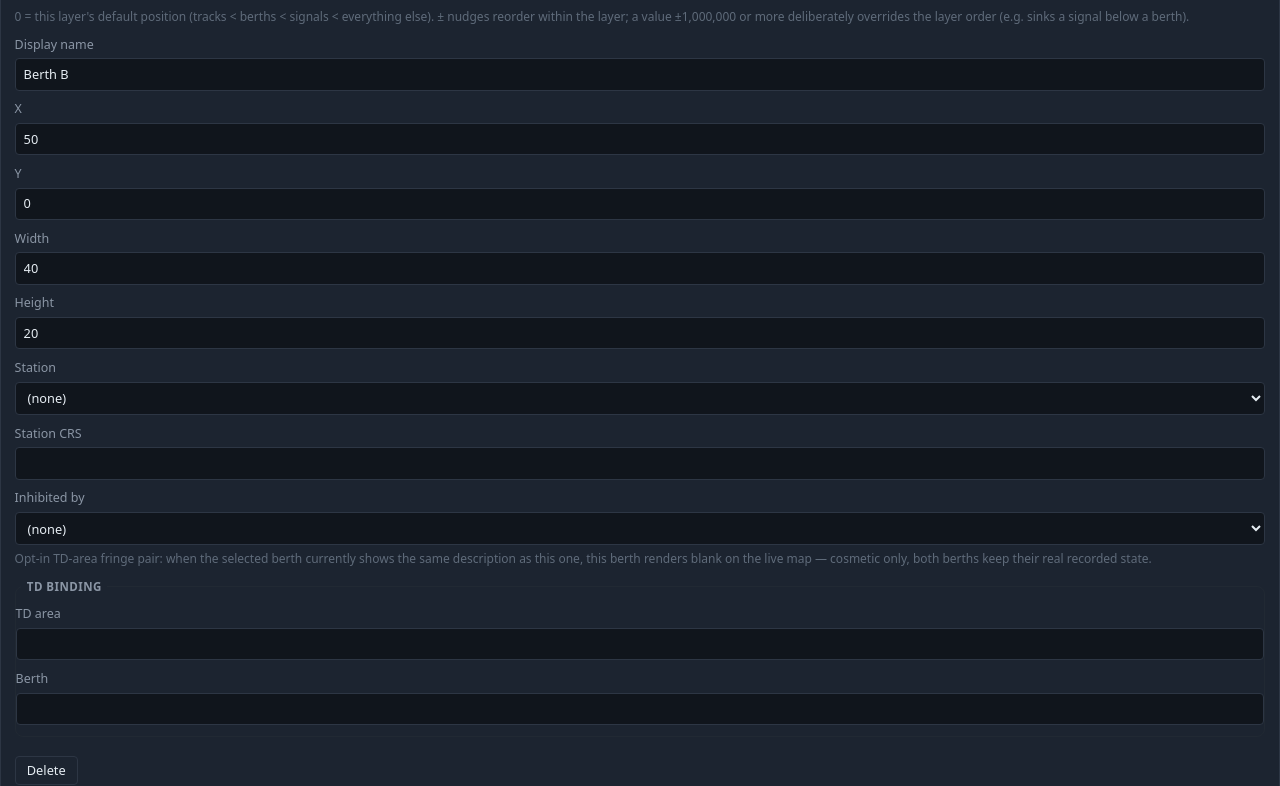
Scenario: PropertyPanel BindingFields › saves a binding on a freshly created, never-bound berth once both fields are filled in
(page scrolled)
Type "PX" into the field labelled "TD area" at point(640, 644), box x1=16 y1=628 x2=1264 y2=660
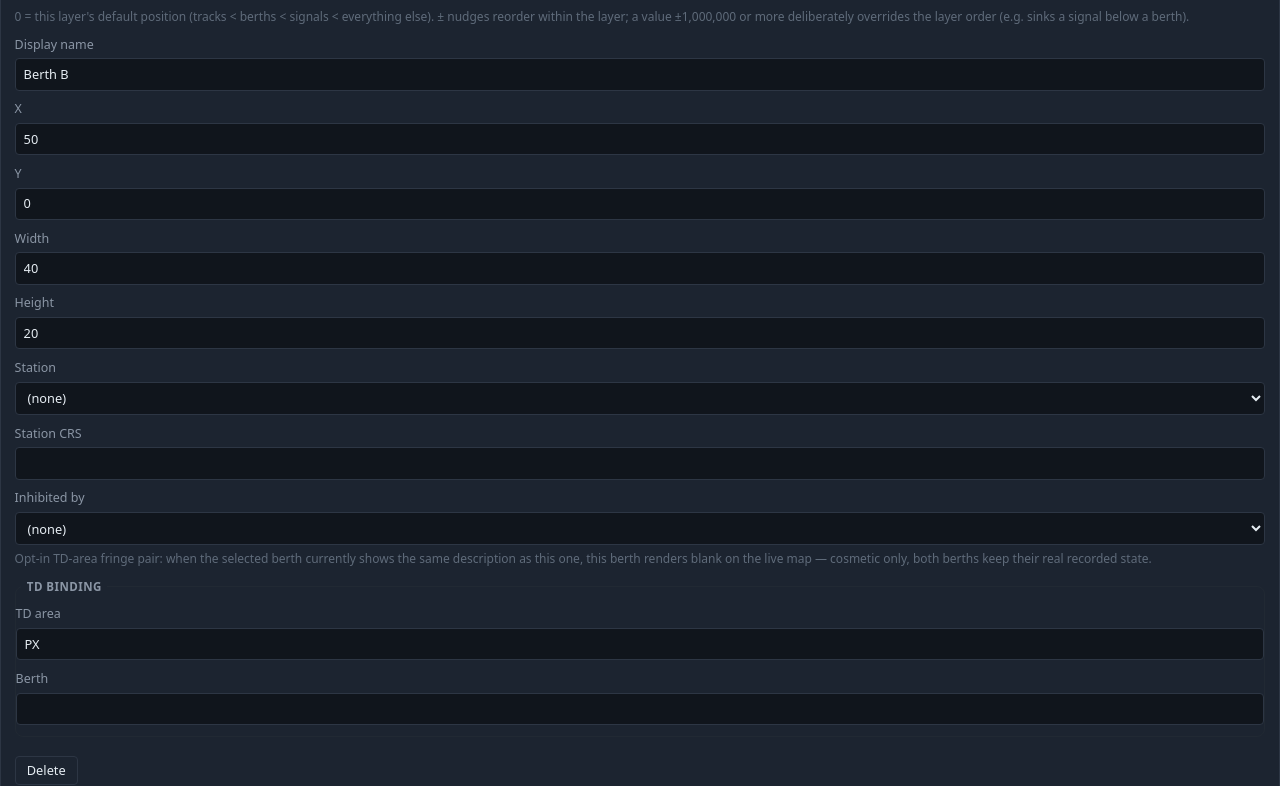
Type "0186" into the field labelled "Berth" at point(640, 709), box x1=16 y1=693 x2=1264 y2=725
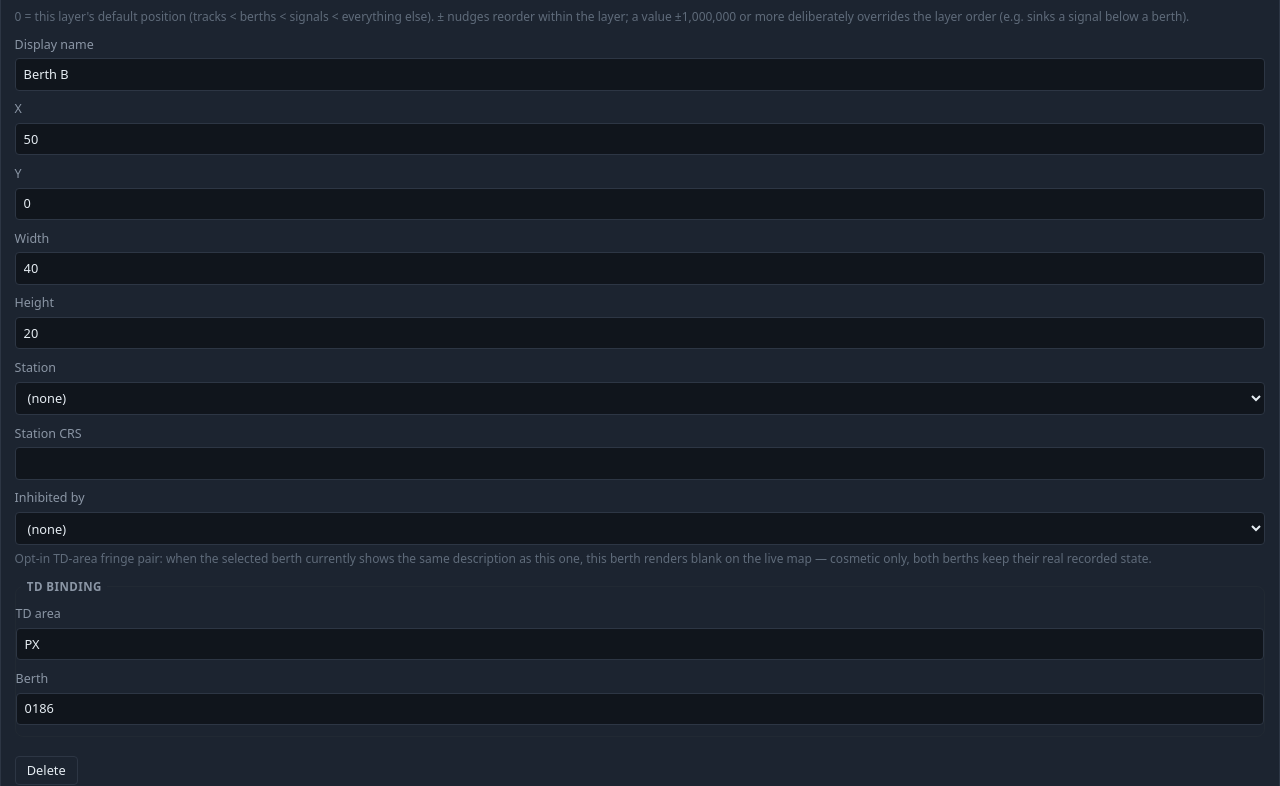
Leave the field labelled "Berth", box x1=16 y1=693 x2=1264 y2=725
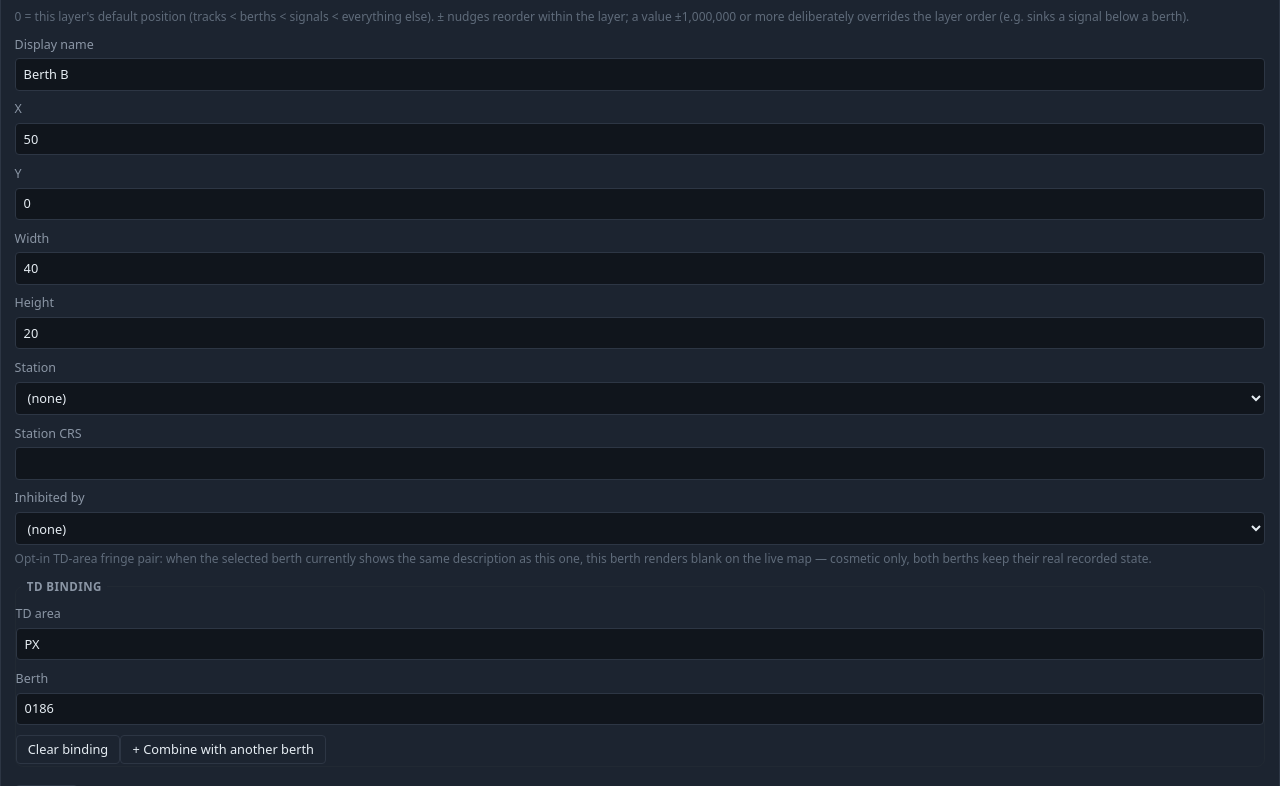
Now the button "Clear binding" is shown, box x1=16 y1=735 x2=120 y2=764
